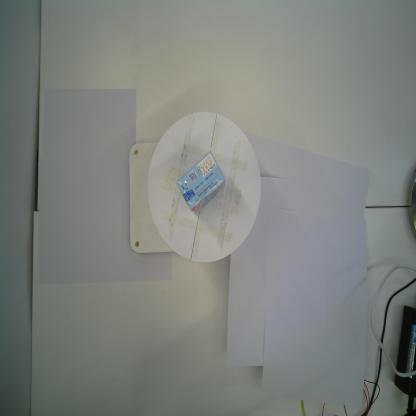Milk: (176, 150, 226, 214)
